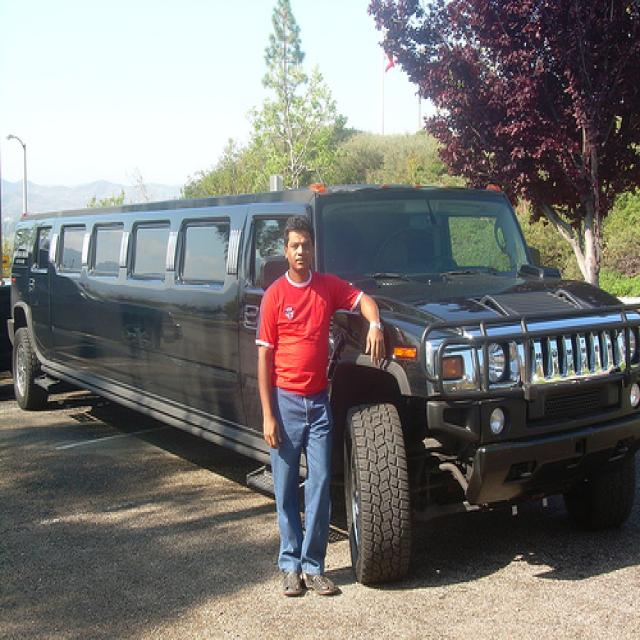car: (6, 187, 640, 590)
